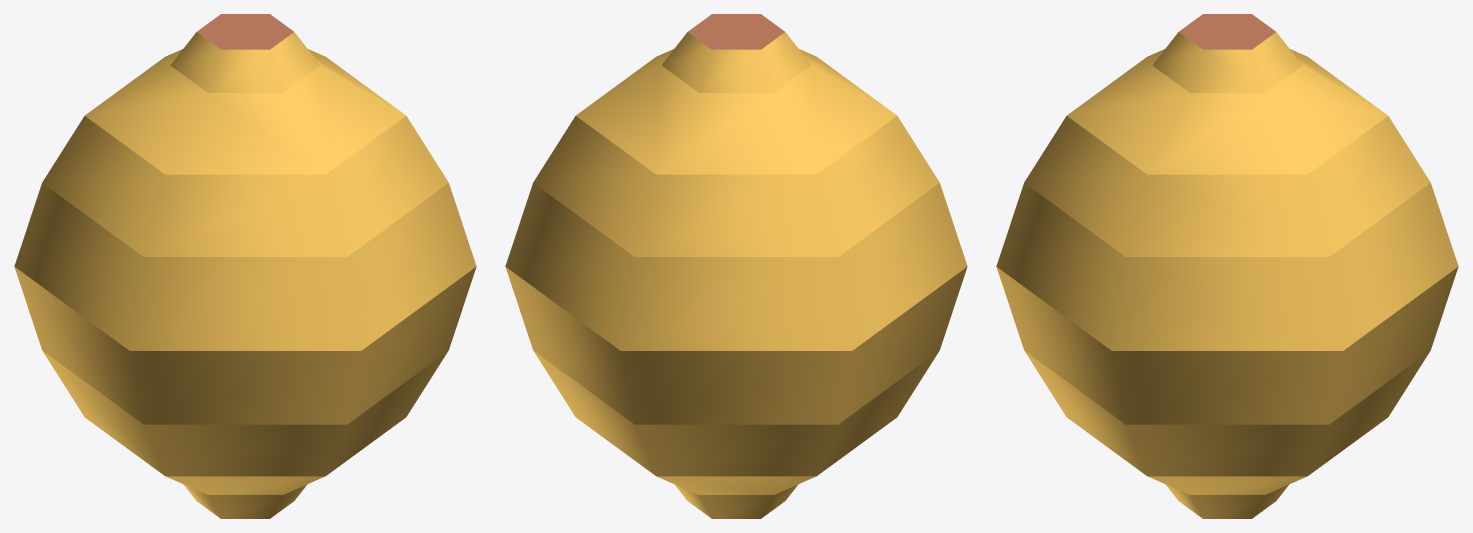
The model's file is lemon.GLB.
3 views of the same model, side by side, from view 1: azimuth 30°, elevation 25°; view 2: azimuth 150°, elevation 25°; view 3: azimuth 270°, elevation 25° (orthographic).
Parts seen in each view (by area): view 1: lemon.001; view 2: lemon.001; view 3: lemon.001.
Part boxes in pixels (<box>): lemon.001: <box>14,14,476,518</box>; lemon.001: <box>505,14,967,518</box>; lemon.001: <box>996,14,1458,518</box>.
Bounding box in the file's own units: 0.1732 × 0.224 × 0.2.
